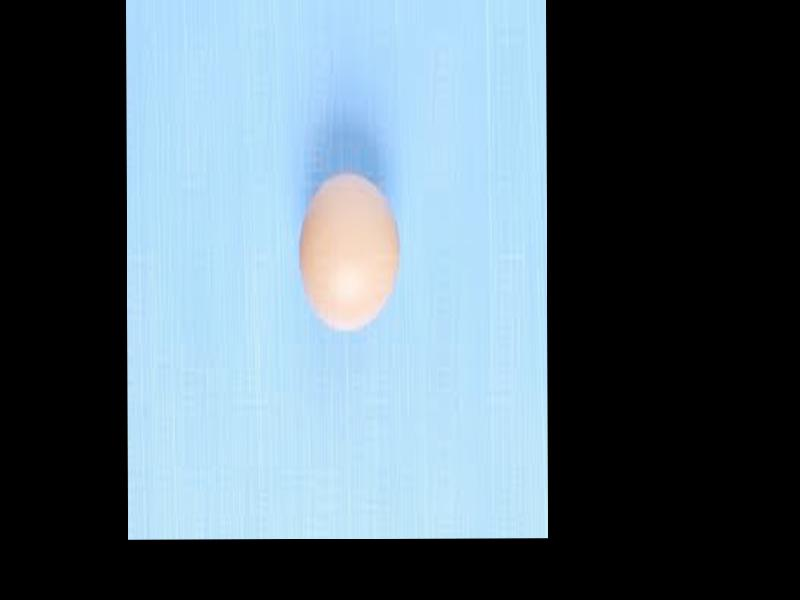Eggs: (299, 168, 399, 333)
